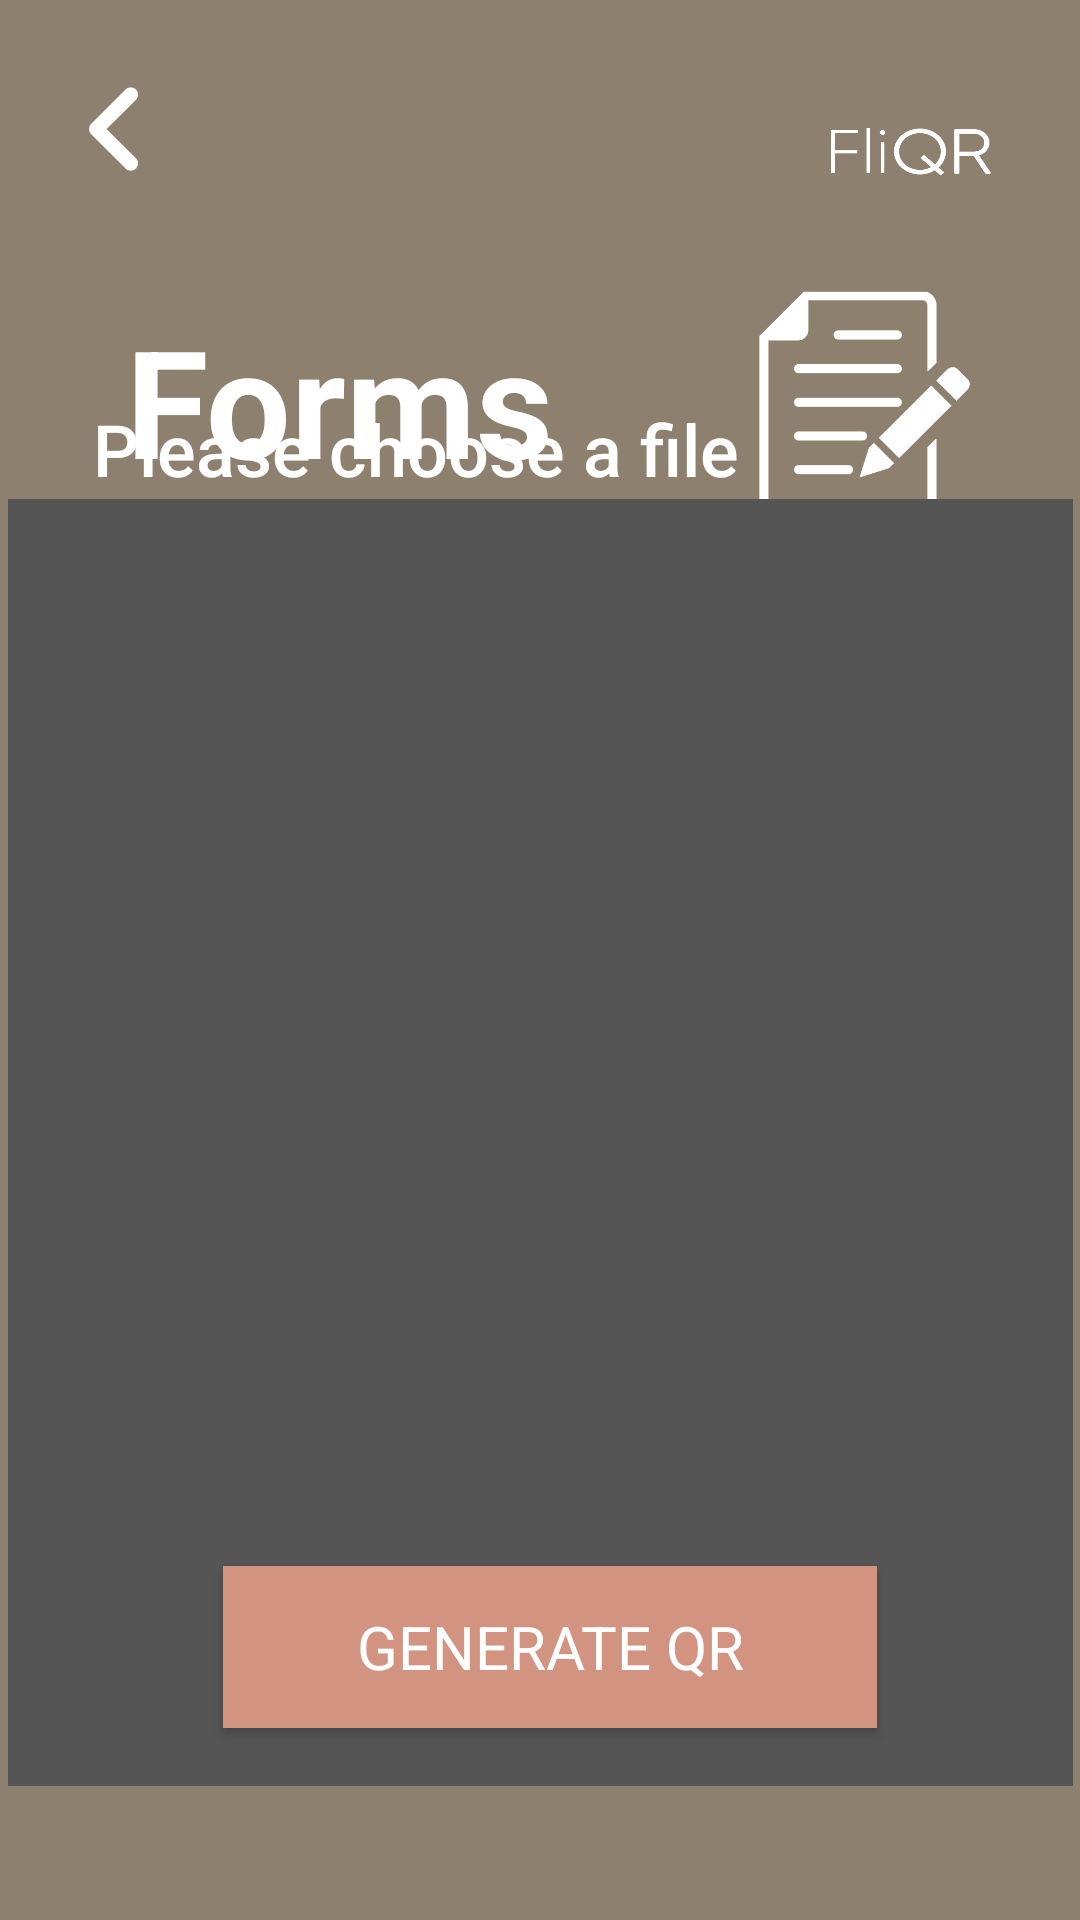

Screen size 1080×1920. Icon name, then its box in pixels as region(x1, y1, x2, y2):
back: region(89, 87, 138, 171)
